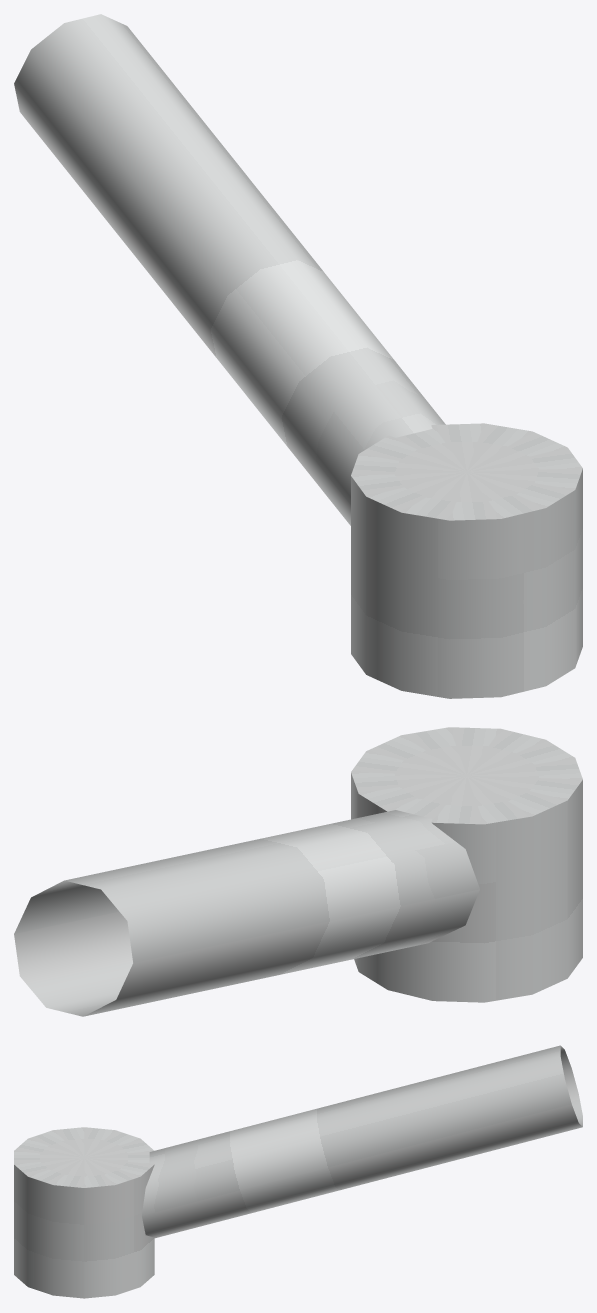
The model's file is trusssignalarm_sloped8_c1_pedestal.obj.
3 renders of one model, top to bottom at view 1: azimuth 30°, elevation 25°; view 2: azimuth 150°, elevation 25°; view 3: azimuth 270°, elevation 25°, orthographic. The views are drawn at different scales.
Visible parts, largest first — view 1: trusssignalarm_sloped8_c1_pedestal; view 2: trusssignalarm_sloped8_c1_pedestal; view 3: trusssignalarm_sloped8_c1_pedestal.
Part boxes in pixels (x1=…): trusssignalarm_sloped8_c1_pedestal: x1=14, y1=14, x2=582, y2=698; trusssignalarm_sloped8_c1_pedestal: x1=14, y1=727, x2=582, y2=1016; trusssignalarm_sloped8_c1_pedestal: x1=14, y1=1045, x2=582, y2=1298.
Size of the model in its own units: 0.4438 by 0.7371 by 1.75.
